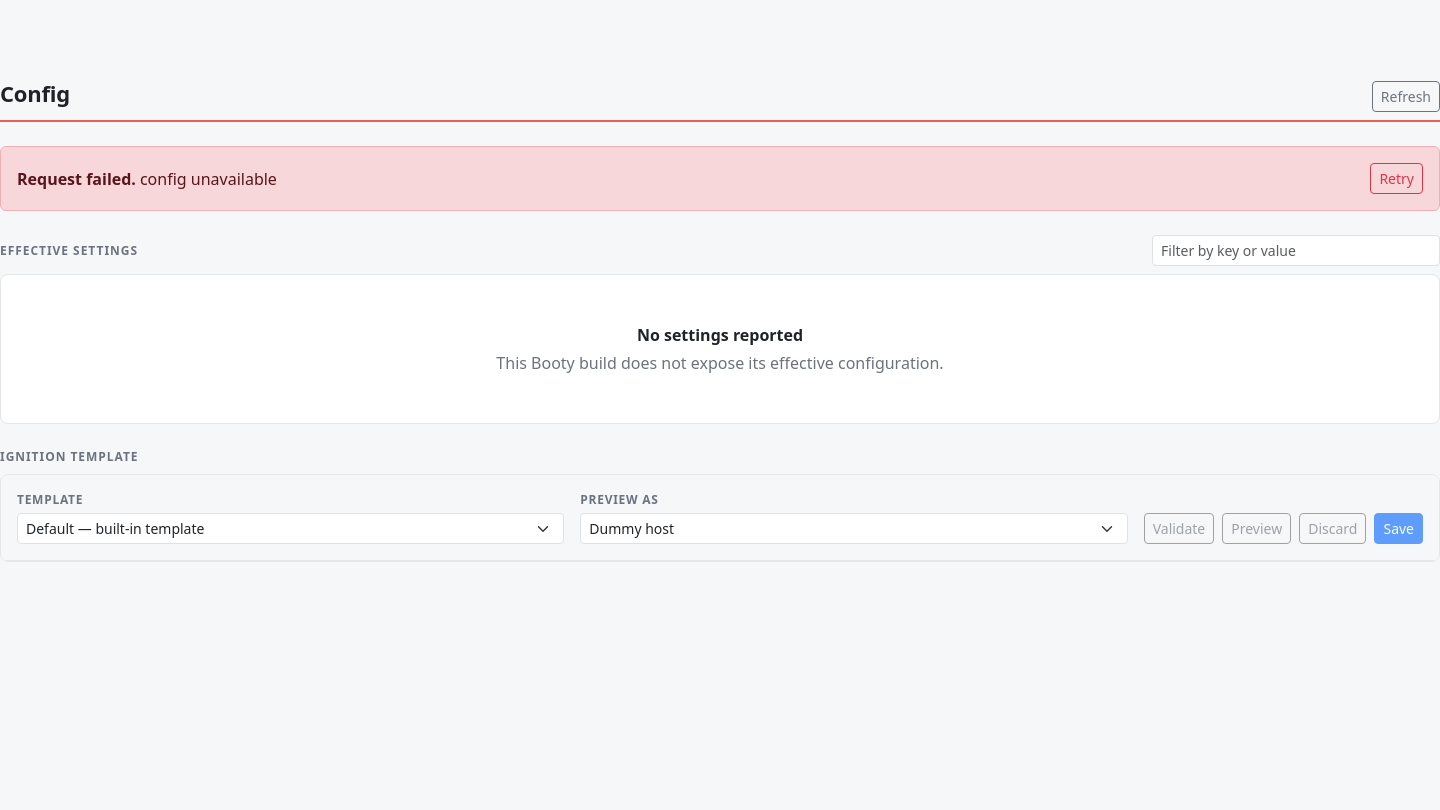
Test: ConfigView settings › shows an error alert when GET /config fails and retries
This screenshot has width=1440, height=810.
Check: the text with test id "error-message" reads "config unavailable", box x1=140 y1=168 x2=277 y2=190
Click the button "Retry": (1397, 178) x1=1370 y1=163 x2=1423 y2=194
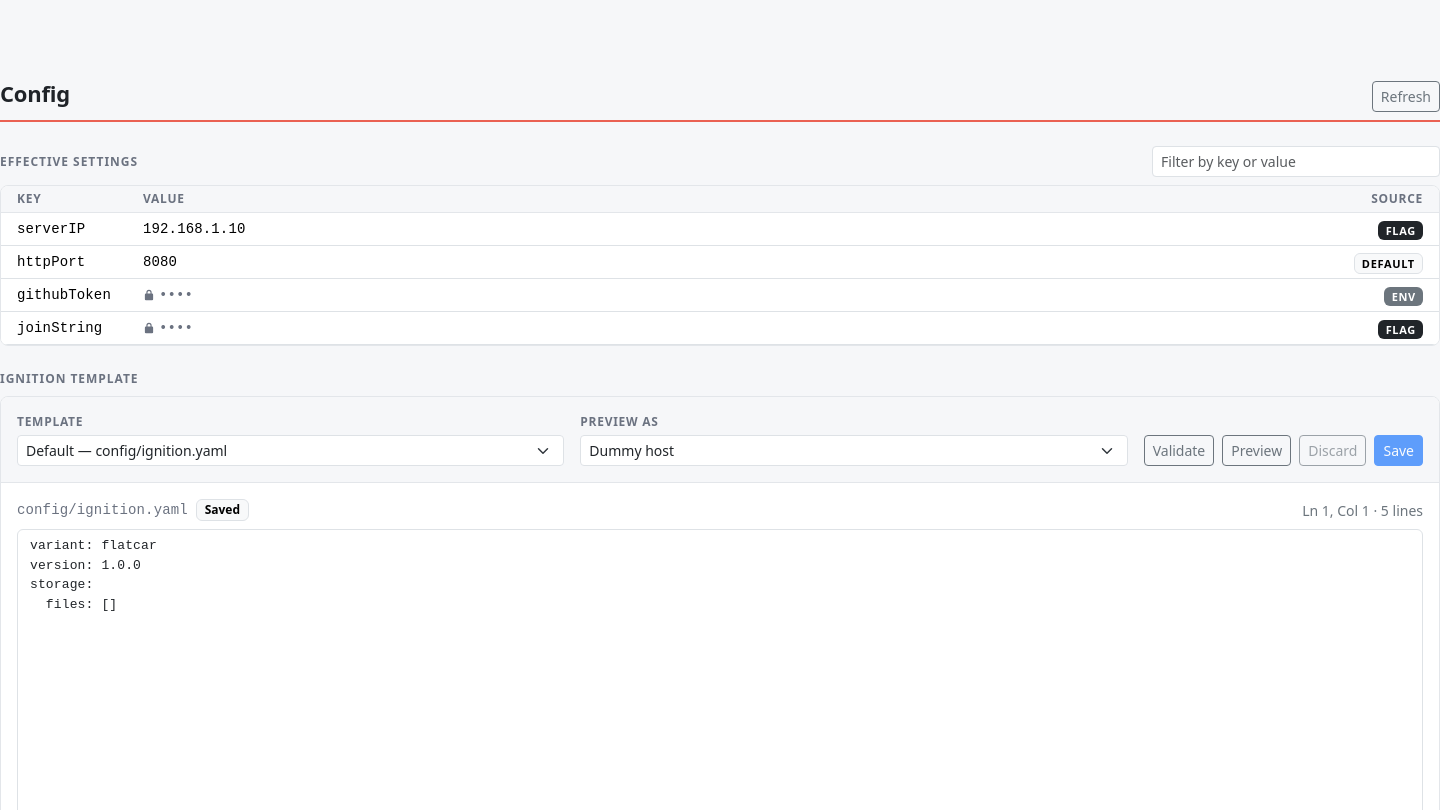
Check: the table with test id "settings-table" is shown, box x1=1 y1=186 x2=1439 y2=345
